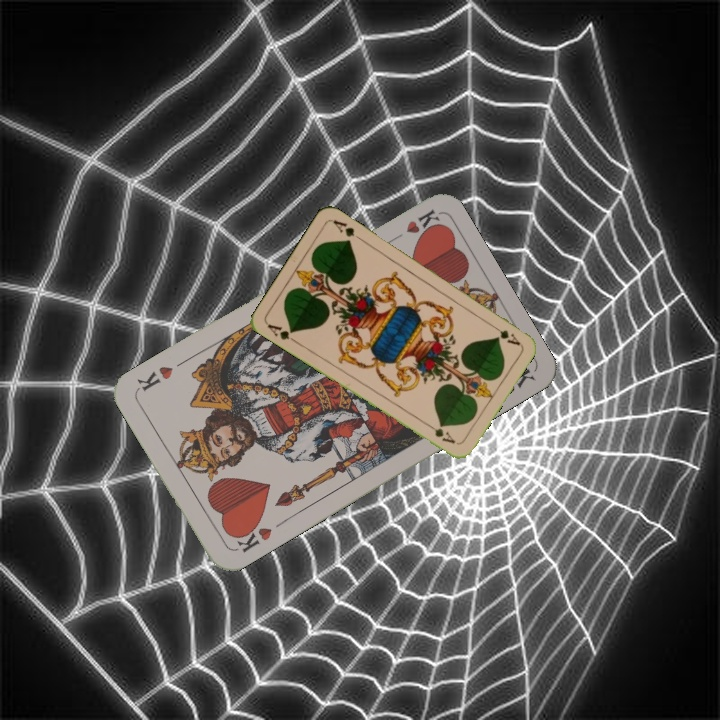GA: (487, 320, 523, 348), (263, 319, 300, 346)
HK: (385, 205, 442, 245), (229, 517, 275, 555)
